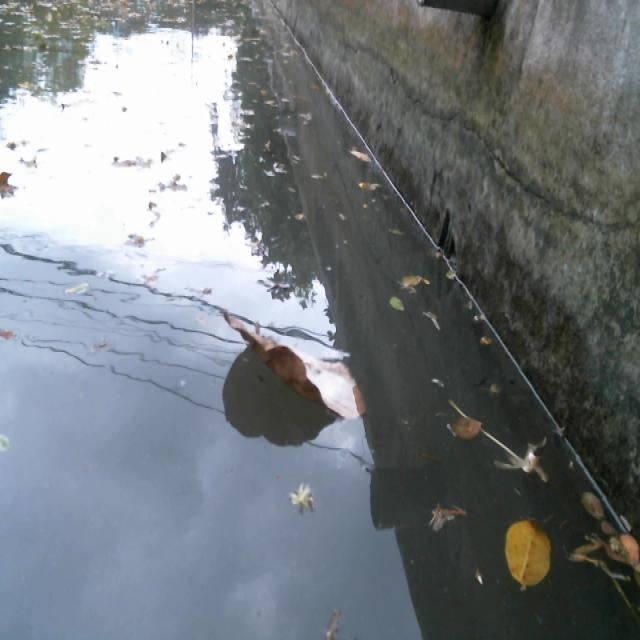Big-leaf: (215, 298, 371, 428)
Small-leaf: (565, 522, 640, 598), (500, 517, 559, 598), (446, 403, 485, 440), (575, 482, 603, 523), (119, 227, 154, 258), (397, 267, 438, 291), (344, 179, 388, 196), (382, 287, 408, 315), (61, 279, 92, 298), (343, 144, 372, 164), (0, 316, 15, 349), (288, 206, 308, 228)
